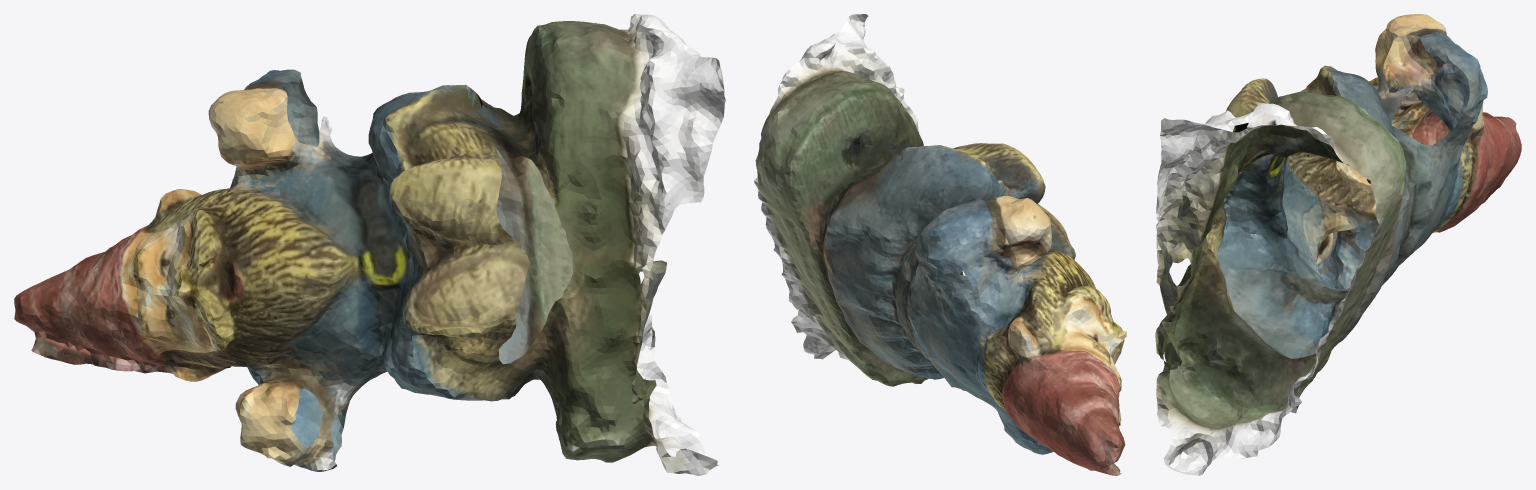
The model's file is texturedMesh.obj.
3 views of the same model, side by side, from view 1: azimuth 30°, elevation 25°; view 2: azimuth 150°, elevation 25°; view 3: azimuth 270°, elevation 25° (orthographic). The views are drawn at different scales.
Parts seen in each view (by area): view 1: TexturedMesh; view 2: TexturedMesh; view 3: TexturedMesh.
Boxes of the visible parts, <box> form: TexturedMesh: <box>14,14,725,475</box>; TexturedMesh: <box>754,14,1126,475</box>; TexturedMesh: <box>1155,14,1521,475</box>.
Size of the model in its own units: 0.9517 by 0.7314 by 0.6642.
Materials: 1 (1 with a texture image).
